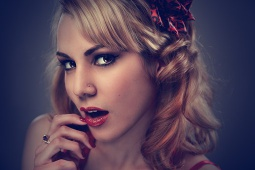female: (53, 8, 160, 140)
